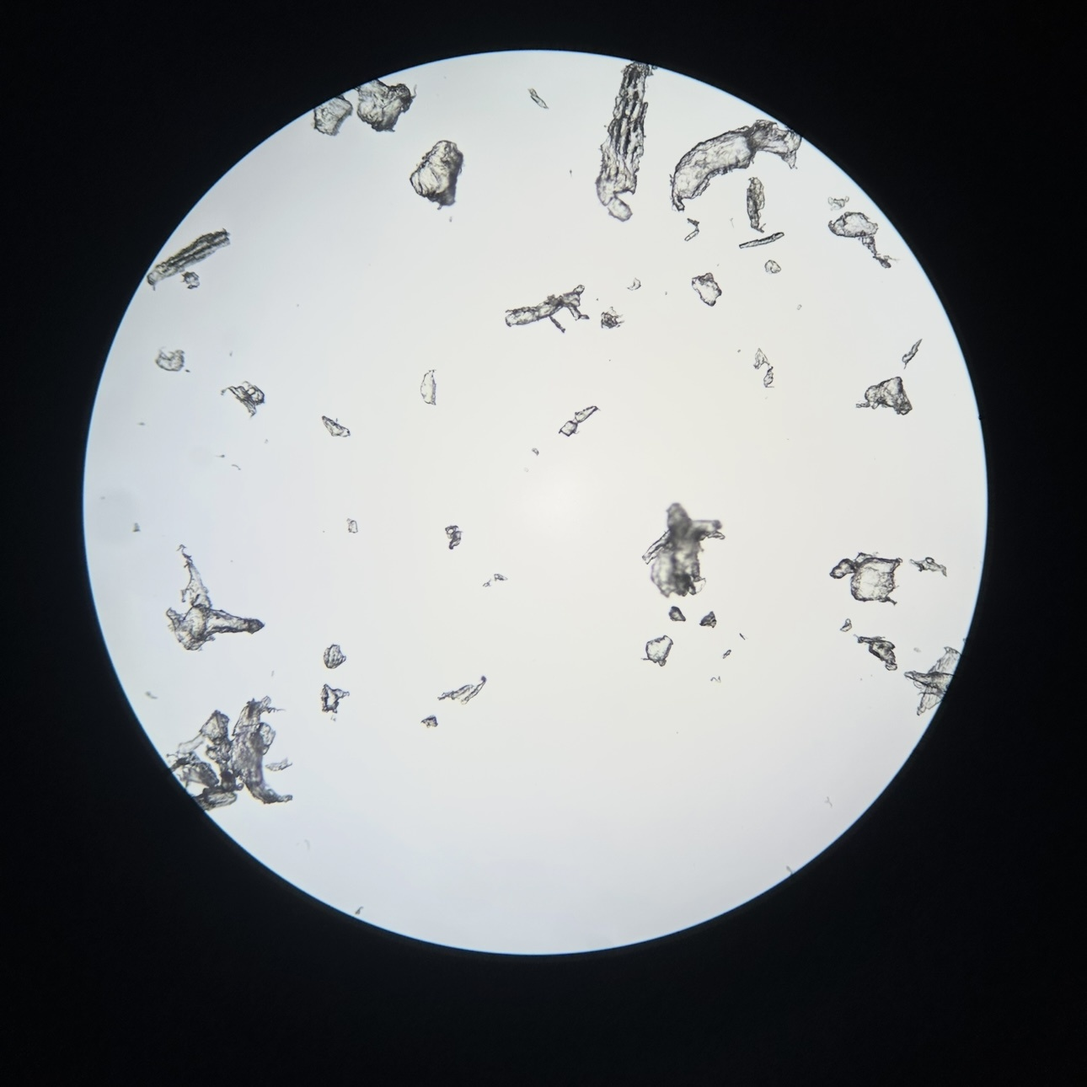microplastic: (166, 697, 293, 811), (670, 120, 801, 212), (595, 53, 658, 222), (166, 545, 264, 651), (642, 504, 725, 597), (147, 230, 229, 292), (506, 285, 591, 335), (904, 647, 961, 715), (410, 141, 464, 211), (828, 554, 902, 604), (355, 78, 418, 132), (855, 377, 913, 415), (312, 94, 352, 137), (854, 634, 897, 671), (221, 381, 265, 416), (438, 676, 486, 704), (828, 212, 878, 237), (559, 406, 600, 436), (861, 238, 898, 269), (692, 273, 722, 307), (747, 178, 765, 233), (754, 348, 777, 388), (321, 683, 350, 713), (642, 637, 672, 666), (908, 556, 947, 578), (739, 233, 784, 248), (321, 415, 351, 437), (902, 339, 922, 369), (155, 352, 184, 372), (323, 645, 345, 669), (421, 370, 436, 405), (601, 308, 623, 330), (528, 88, 548, 108), (446, 525, 462, 549), (183, 272, 201, 292), (684, 217, 699, 241), (827, 197, 849, 211), (669, 606, 686, 622), (700, 611, 716, 627), (764, 260, 781, 274), (420, 716, 439, 728), (839, 618, 852, 632), (627, 279, 640, 292), (493, 571, 507, 581), (347, 519, 356, 533), (483, 579, 491, 587), (723, 649, 731, 657)
